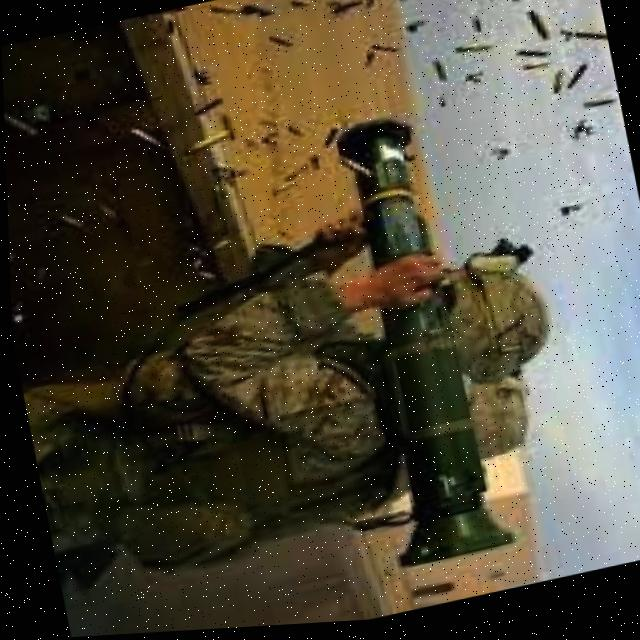rocket: (312, 100, 519, 592)
